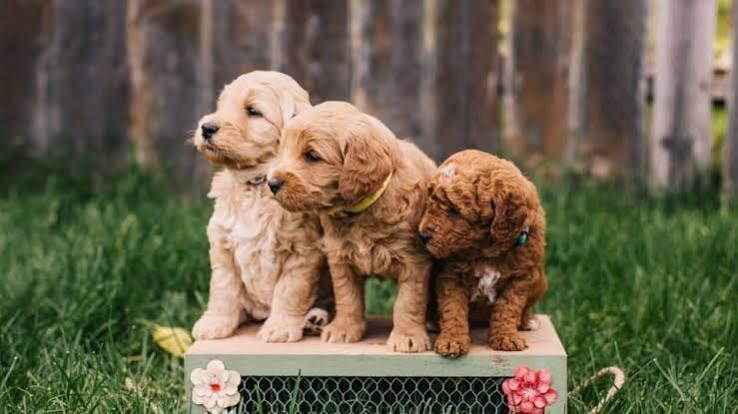puppy-dog: (261, 95, 438, 357), (186, 70, 330, 346), (415, 146, 547, 358)
